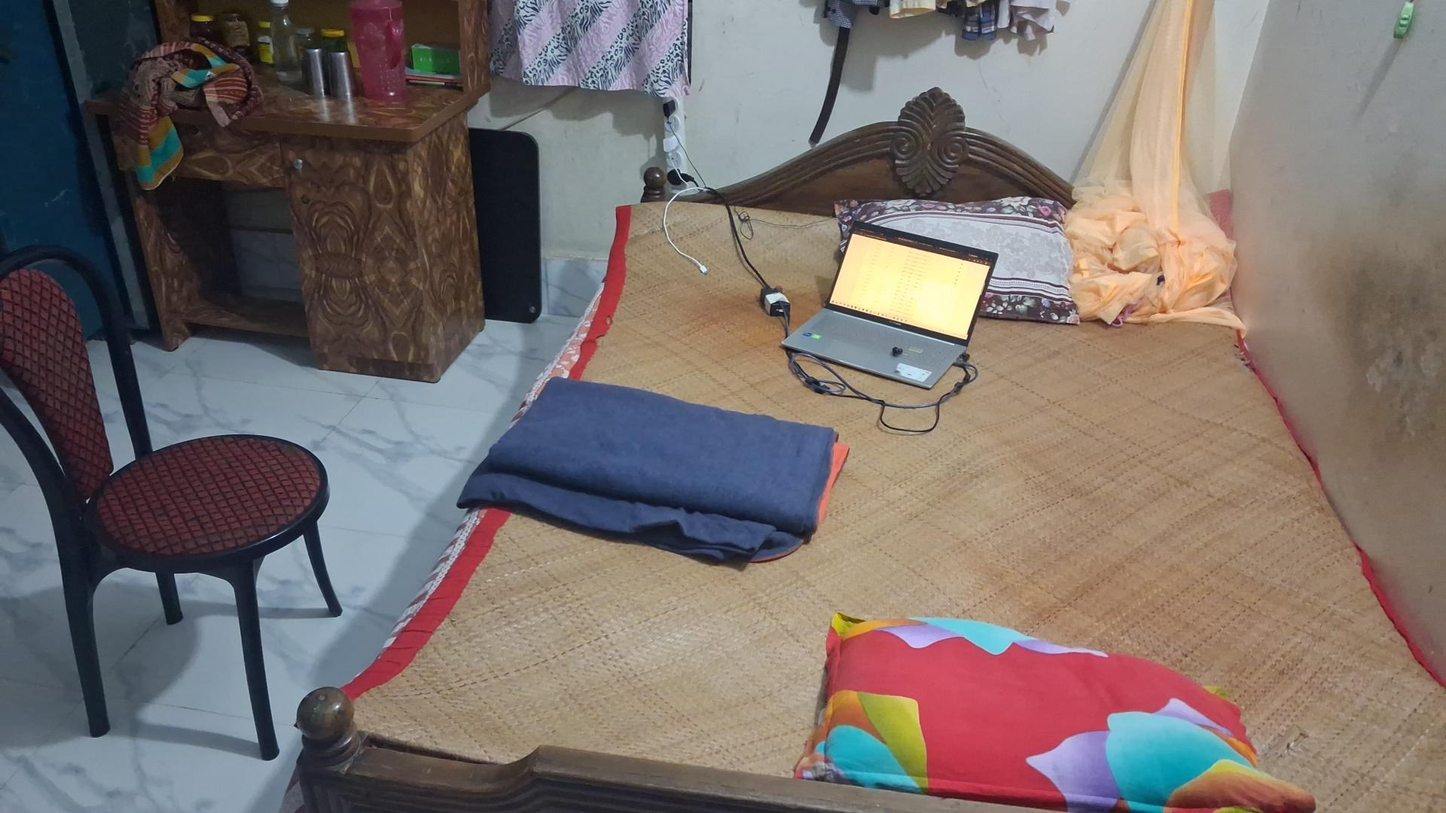Blanket: (461, 362, 853, 567)
Bottle: (266, 2, 302, 83)
Box: (409, 44, 459, 76)
Chair: (0, 243, 343, 761)
Glass: (330, 48, 356, 98), (304, 46, 328, 97)
Jug: (349, 4, 413, 100)
Laptop: (780, 224, 999, 390)
Pillow: (804, 602, 1286, 813), (838, 195, 1078, 320)
